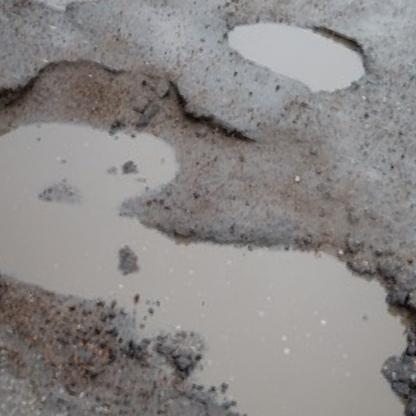pothole: (0, 2, 416, 416), (216, 0, 376, 109)
